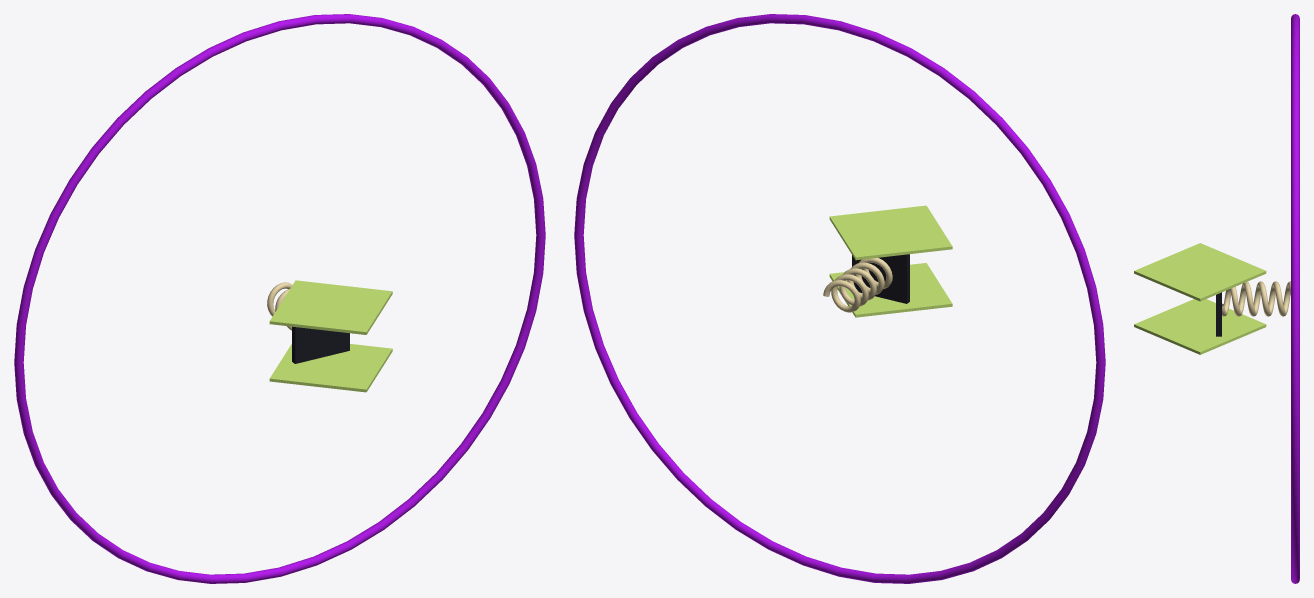
File: leber-lgk-247.glb
3 views of the same model, side by side, from view 1: azimuth 30°, elevation 25°; view 2: azimuth 150°, elevation 25°; view 3: azimuth 270°, elevation 25° (orthographic). The views are drawn at different scales.
Visible parts, largest first — view 1: _outline.020, Cube.041, Cube.042, Cube.040; view 2: _outline.020, Cube.041, Cube.042, Spiral.002, Cube.040; view 3: _outline.020, Cube.041, Cube.042, Spiral.002, Cube.040.
Part boxes in pixels (x1,y1,x2,y2): _outline.020: (14, 14, 545, 583); Cube.041: (269, 280, 392, 334); Cube.042: (269, 344, 392, 392); Cube.040: (292, 326, 349, 363); _outline.020: (574, 14, 1105, 583); Cube.041: (829, 205, 952, 260); Cube.042: (829, 263, 952, 317); Spiral.002: (823, 258, 892, 312); Cube.040: (852, 254, 909, 303); _outline.020: (1291, 14, 1299, 583); Cube.041: (1134, 243, 1266, 301); Cube.042: (1134, 299, 1266, 354); Spiral.002: (1222, 281, 1290, 316); Cube.040: (1216, 292, 1221, 336).
Bounding box in the file's own units: 3.87 × 3.87 × 1.12.
